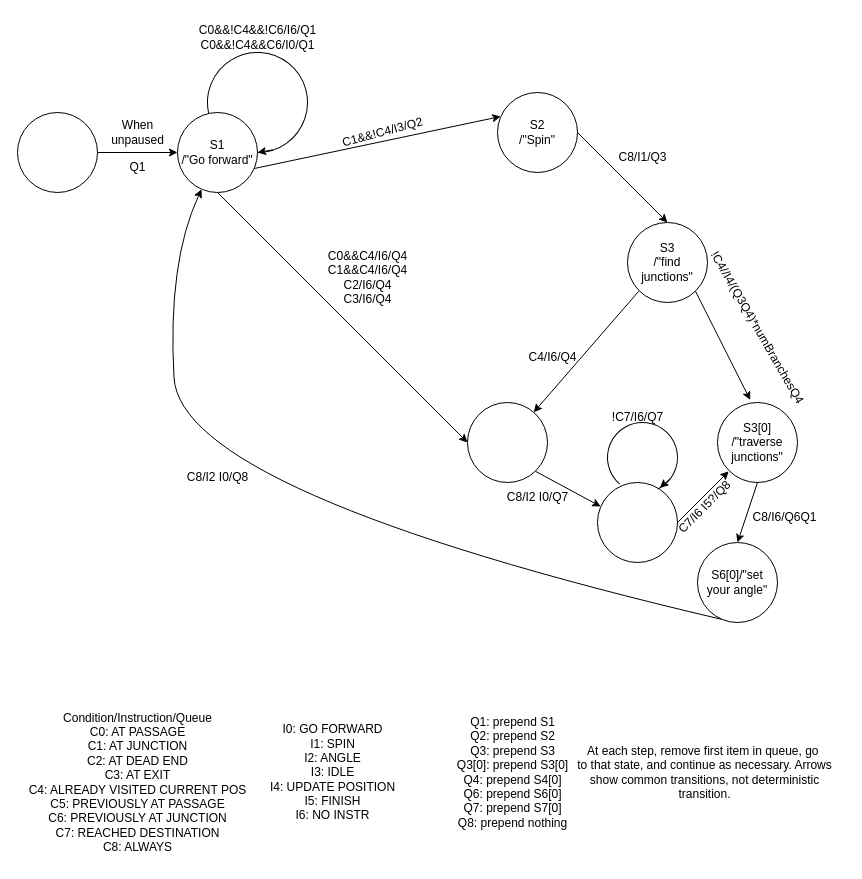
Some shapes in this 862 by 879 pixel diagram are drawn without their labels. The shapes that lost their labels are listed below. From the top down, each one's centre as x and y in pixels, then its label:
pixel 57 152: BEGIN -1
pixel 507 442: S4[0] /"go back to previous position"
pixel 637 522: S7[0] /"continue"
